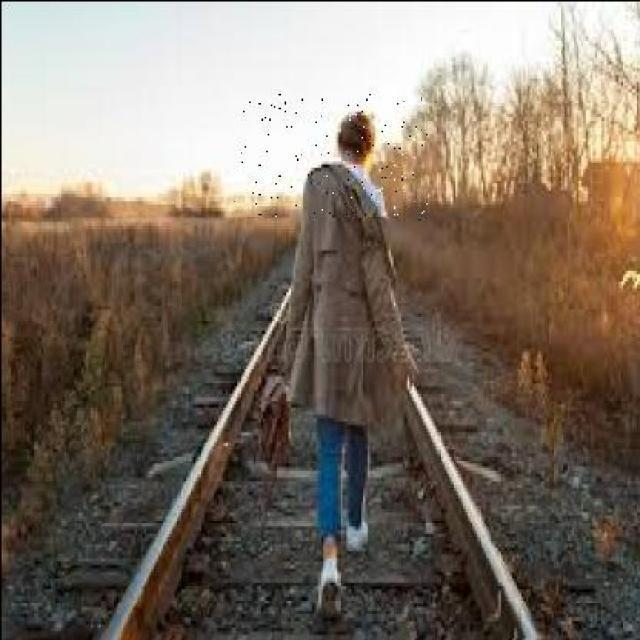danger: (232, 93, 426, 625)
rail: (71, 216, 565, 637)
